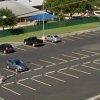Car: (5, 54, 29, 76)
